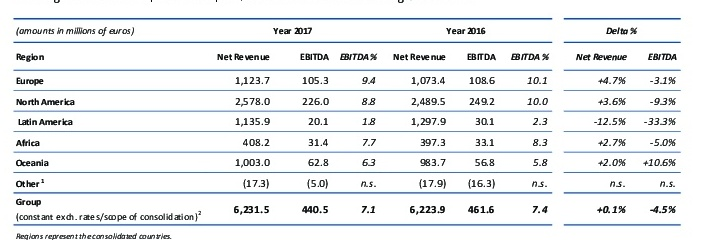table: (0, 0, 707, 240)
